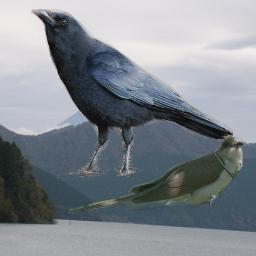Crow: (31, 9, 233, 179)
Cuckoo: (67, 135, 244, 216)
